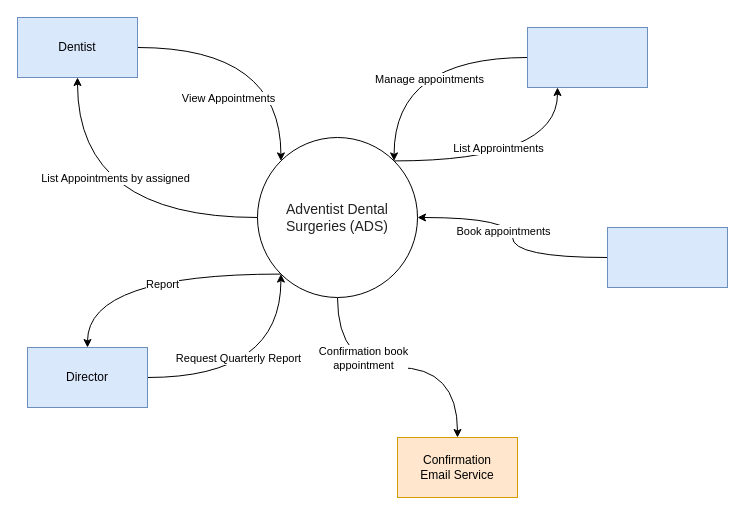
The diagram is 745 pixels wide and 515 high, and some of its shapes have lost their labels. The shapes that lost their labels are listed below. From the top down, each one's centre as x and y in pixels, then its label:
At (587,57): "Pantient".
At (667,257): "Office Clerk".
